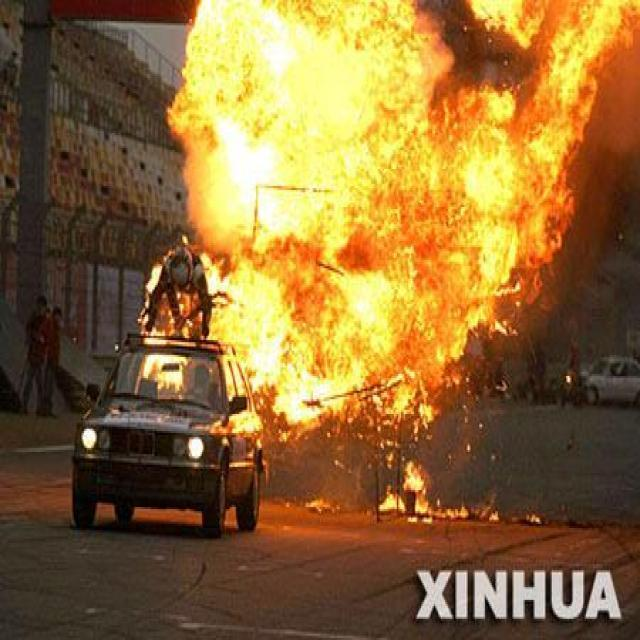fire: (165, 0, 640, 430)
